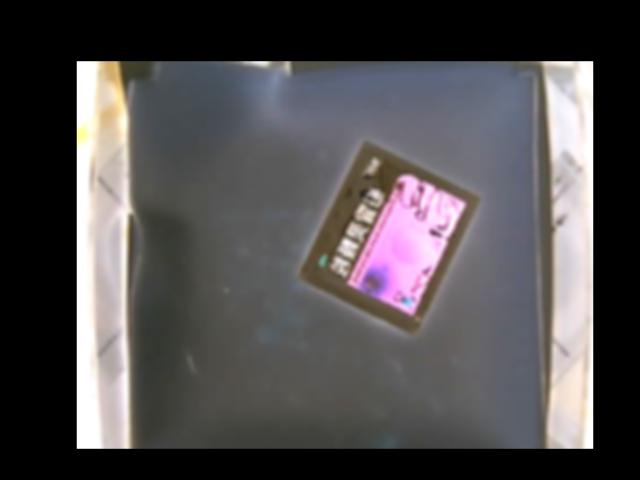Medicine: (297, 140, 483, 334)
